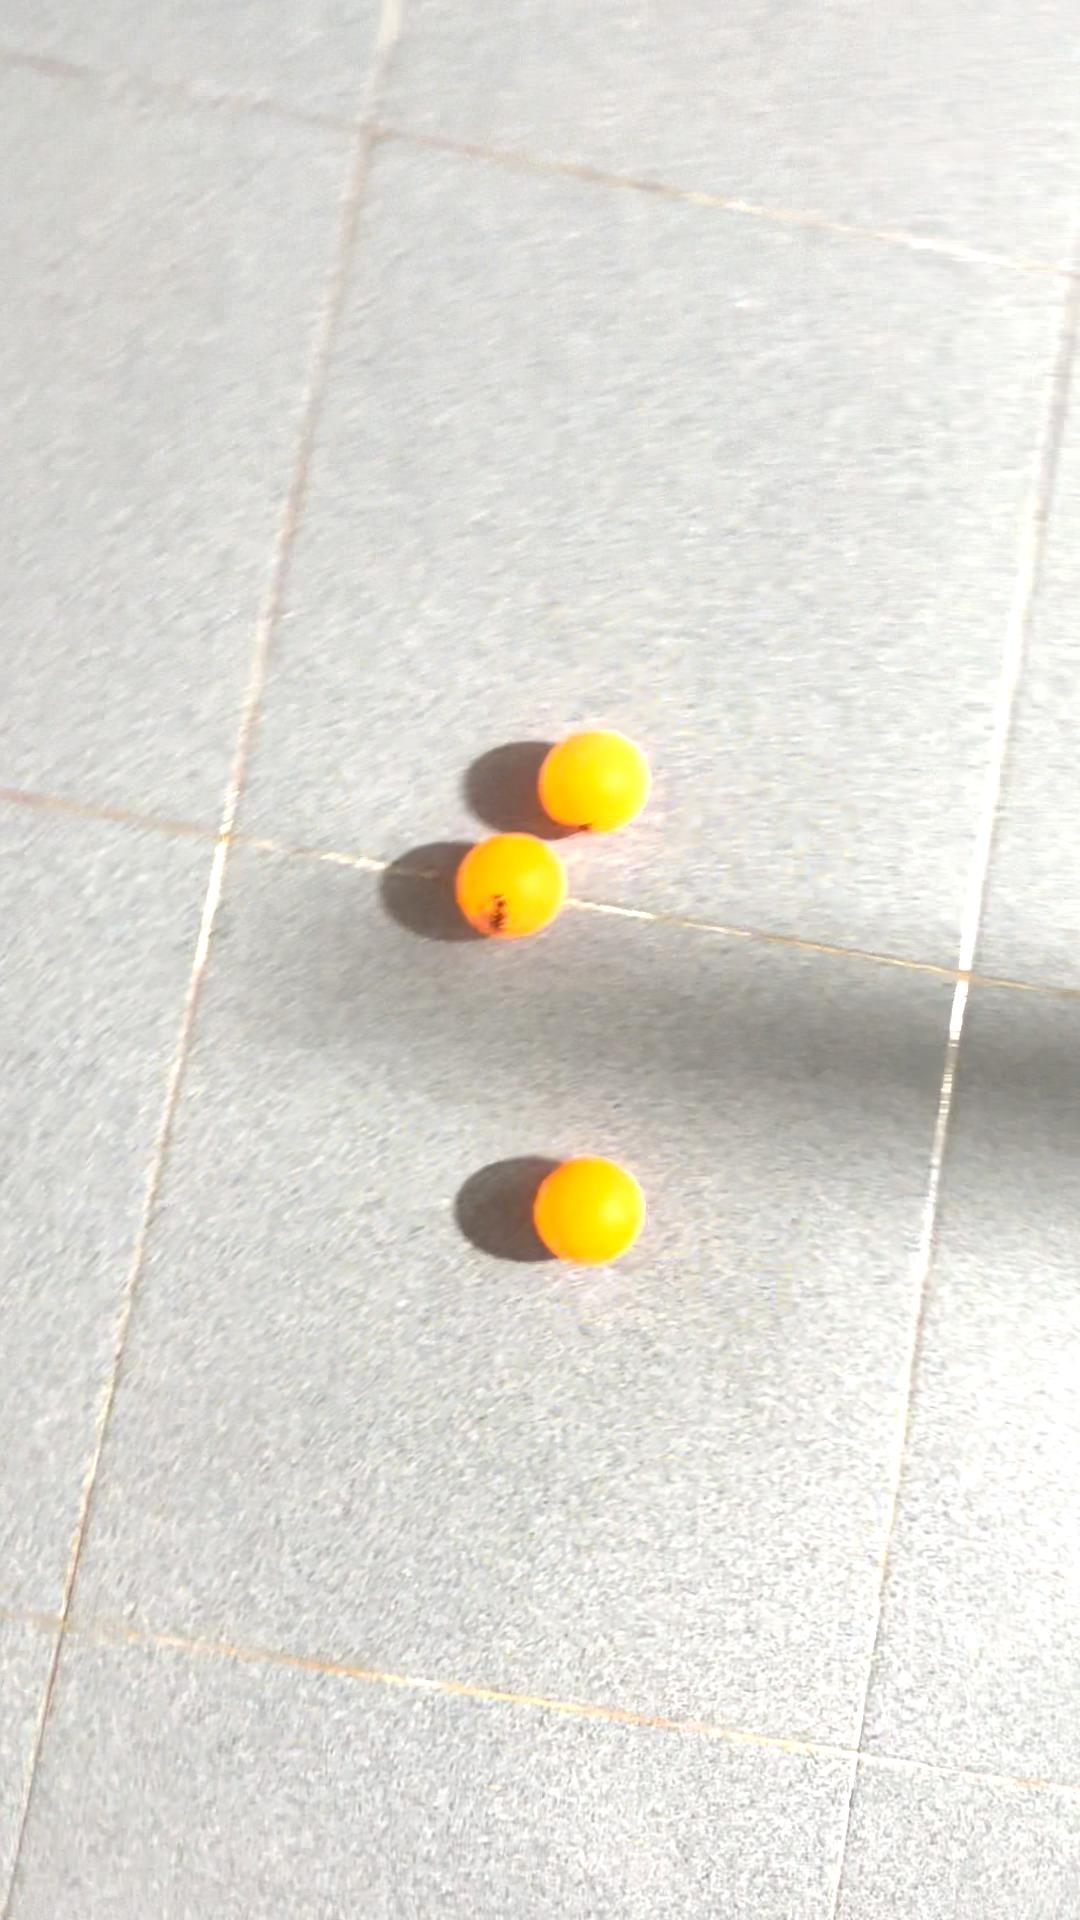oball: (525, 1141, 642, 1282), (448, 824, 578, 951), (541, 724, 659, 831)
